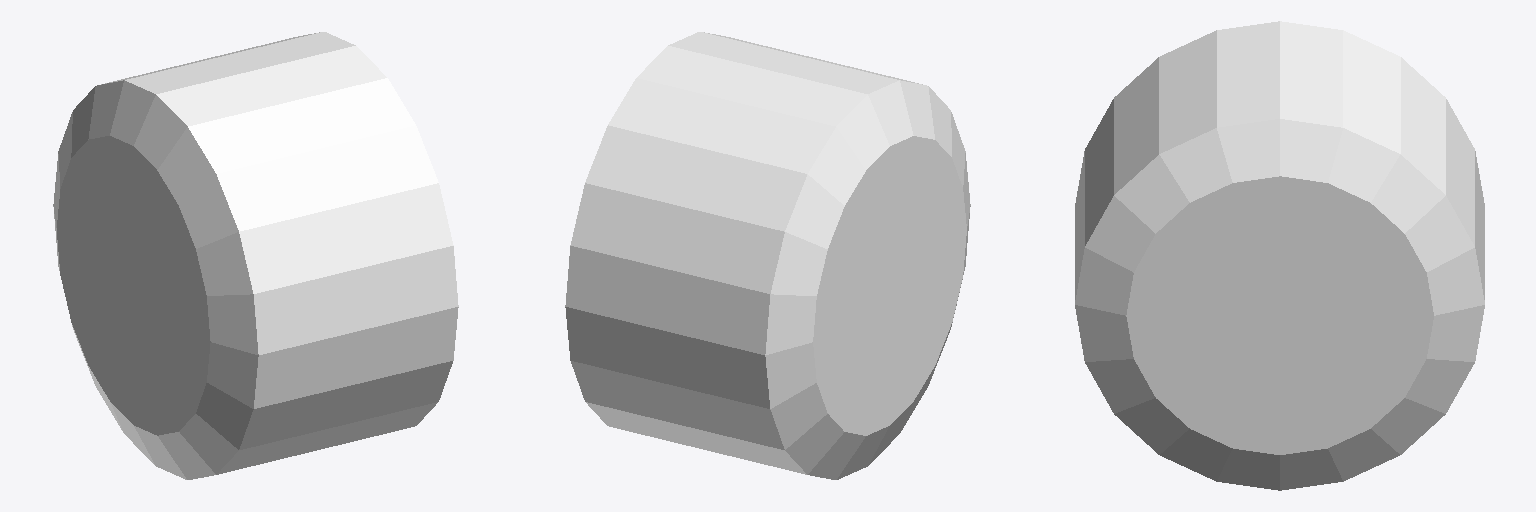
File: wheel_front.obj
3 renders of one model, left to right at view 1: azimuth 30°, elevation 25°; view 2: azimuth 150°, elevation 25°; view 3: azimuth 270°, elevation 25°, orthographic.
Parts seen in each view (by area): view 1: wheel_front_left; view 2: wheel_front_left; view 3: wheel_front_left.
Part boxes in pixels (x1,y1,x2,y2): wheel_front_left: (53,32,458,479); wheel_front_left: (565,32,970,479); wheel_front_left: (1075,21,1484,490).
Size of the model in its own units: 6.6 by 9.6 by 9.6.